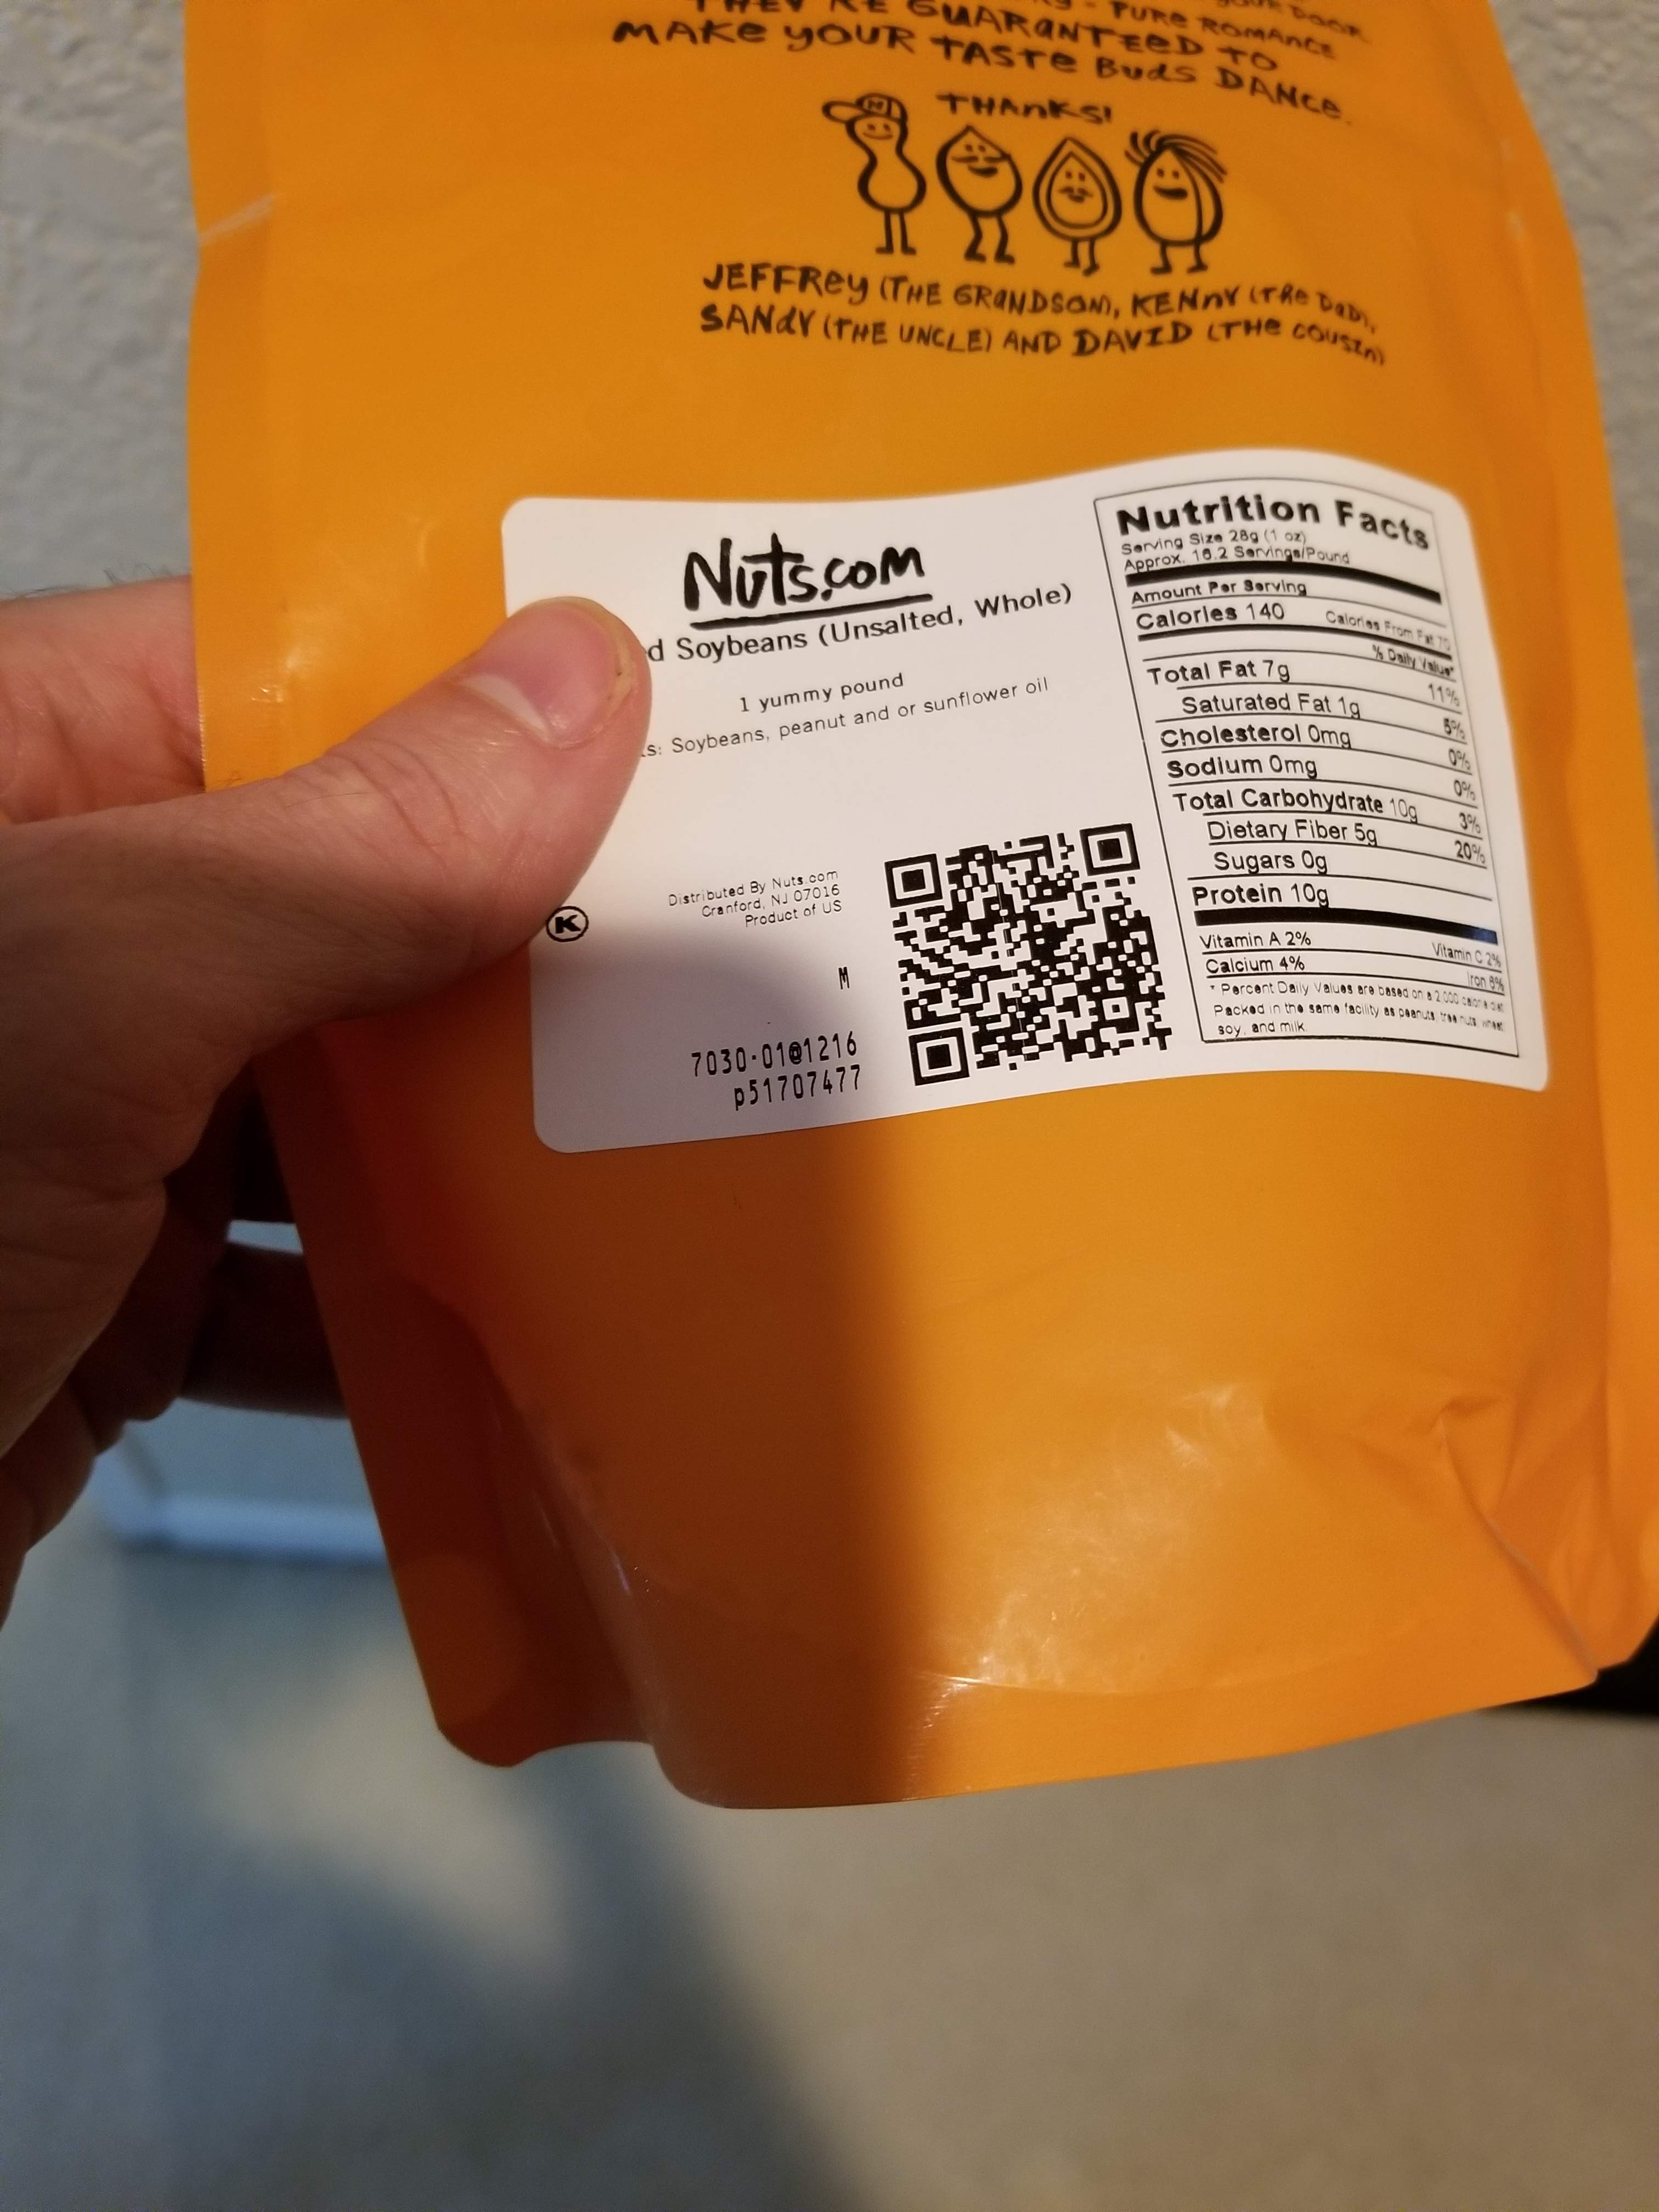QR_CODE: (864, 806, 1199, 1101)
